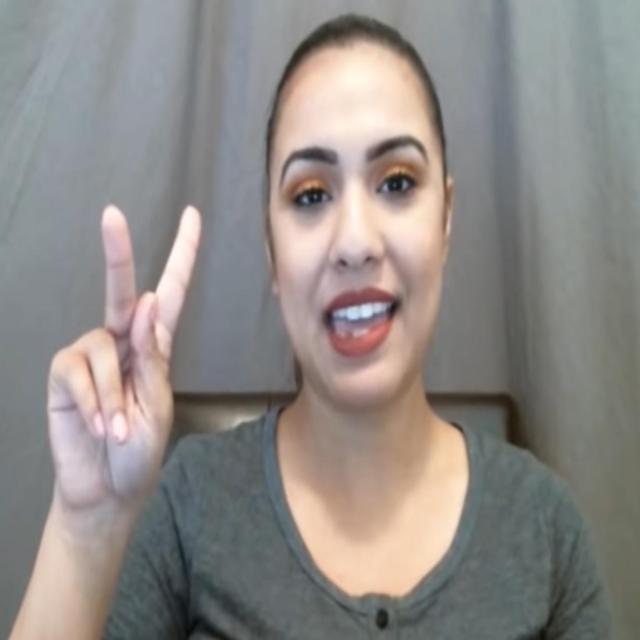K: (33, 198, 206, 509)
